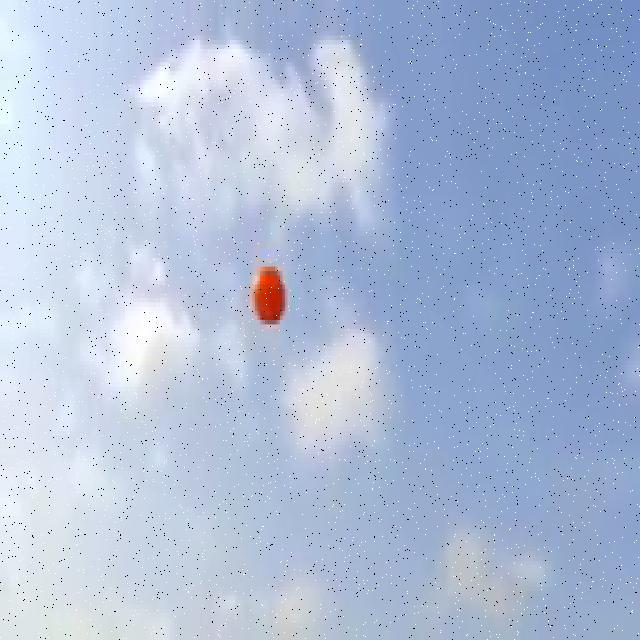red: (249, 264, 285, 327)
